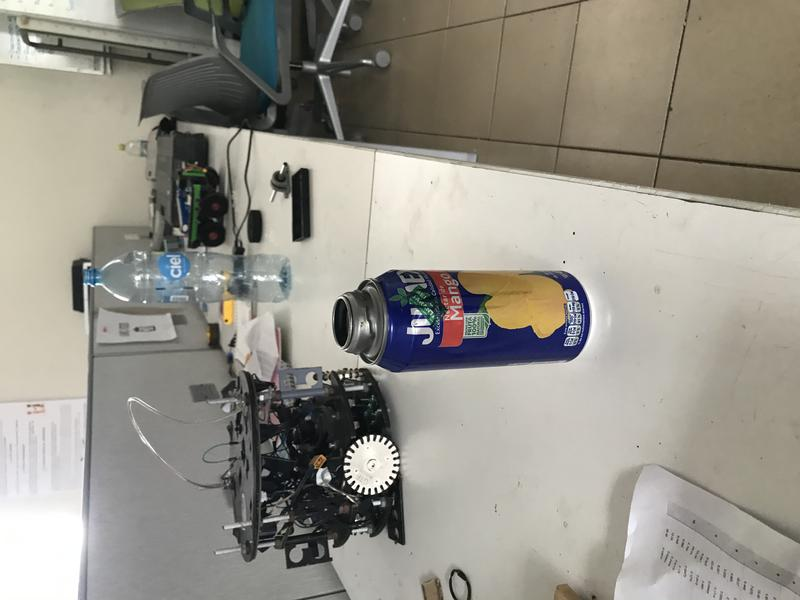jumex_botella: (333, 269, 593, 374)
